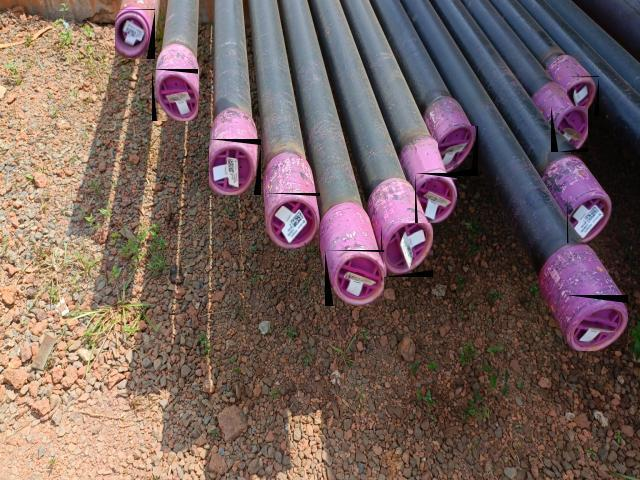pipe: (566, 295, 628, 351), (325, 250, 384, 306), (265, 193, 320, 249), (209, 139, 261, 196), (381, 223, 433, 277), (152, 70, 198, 122), (567, 194, 612, 243), (416, 173, 458, 223), (438, 126, 478, 176), (115, 9, 155, 59), (551, 106, 588, 152), (568, 76, 600, 116)
